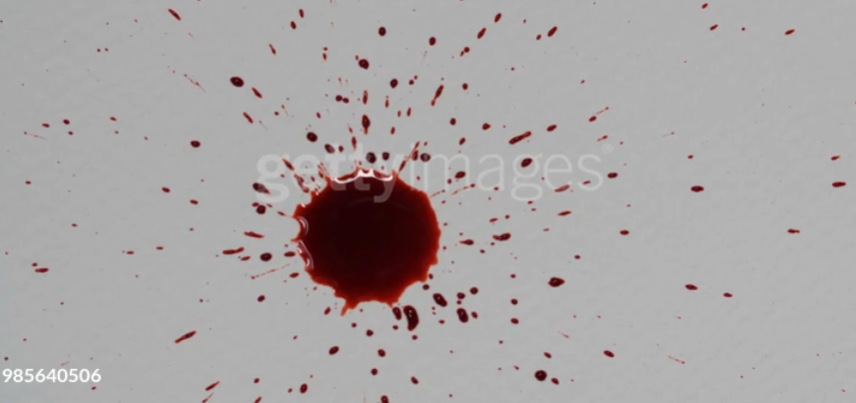blood_47.png: (82, 7, 710, 403)
